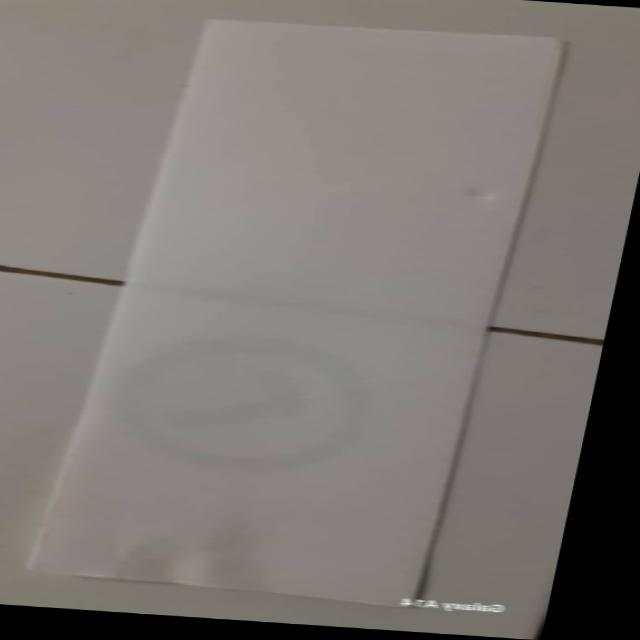Paper Chromatography: (40, 7, 568, 608)
